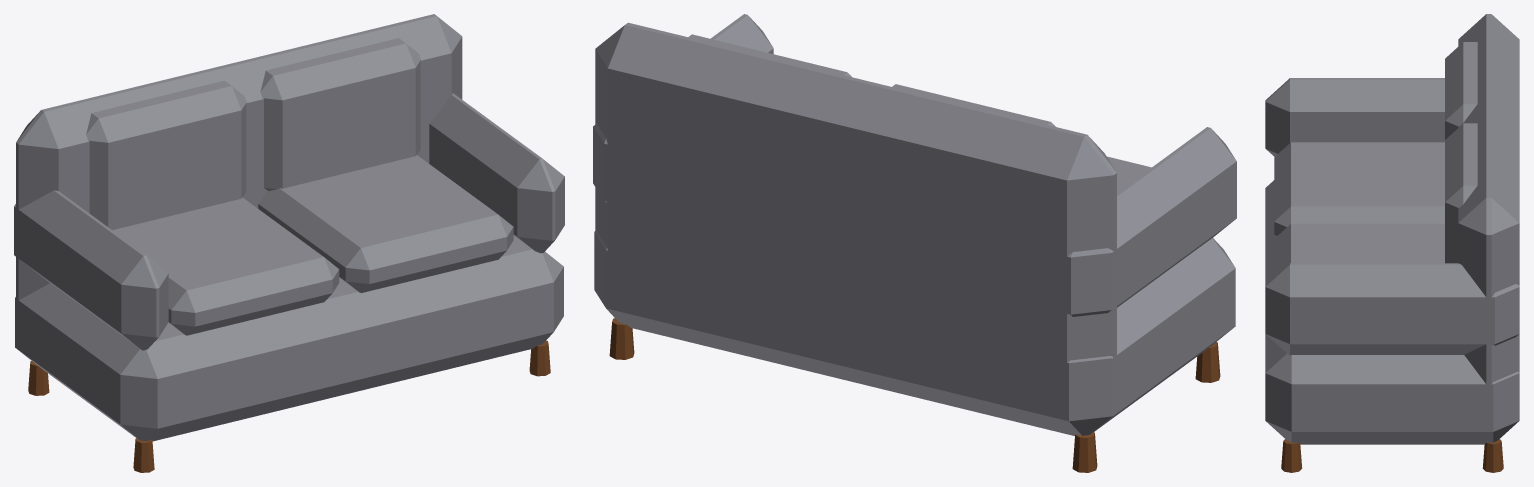
Rendered from GraySofa.fbx.
The picture shows the model from 3 angles, left to right: view 1: azimuth 30°, elevation 25°; view 2: azimuth 150°, elevation 25°; view 3: azimuth 270°, elevation 25°; orthographic projection. The views are drawn at different scales.
Visible parts, largest first — view 1: GraySofa; view 2: GraySofa; view 3: GraySofa.
Boxes of the visible parts, x1,y1,x2,y2 form: GraySofa: (14, 14, 564, 472); GraySofa: (593, 14, 1236, 472); GraySofa: (1265, 14, 1519, 472).
Size of the model in its own units: 5.6 by 3.4 by 2.9.
Materials: 1 (1 with a texture image).
